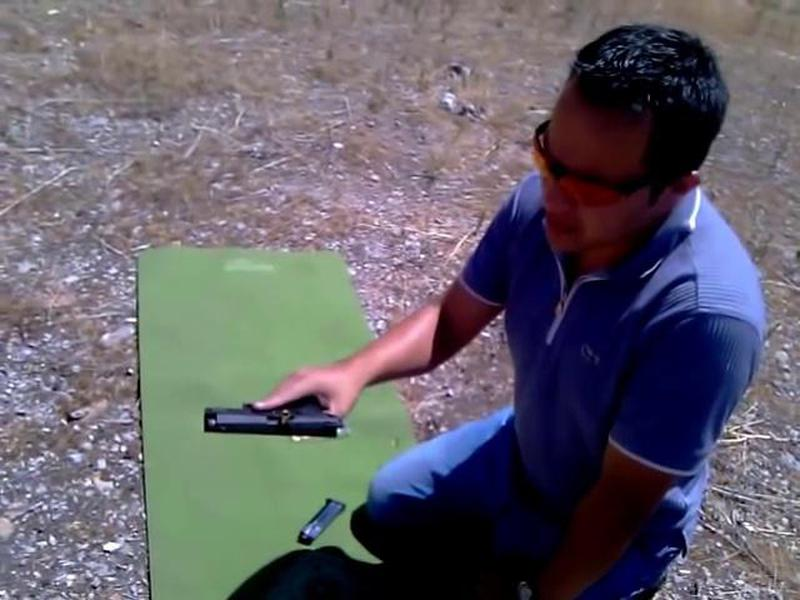Pistola: (203, 369, 377, 455)
